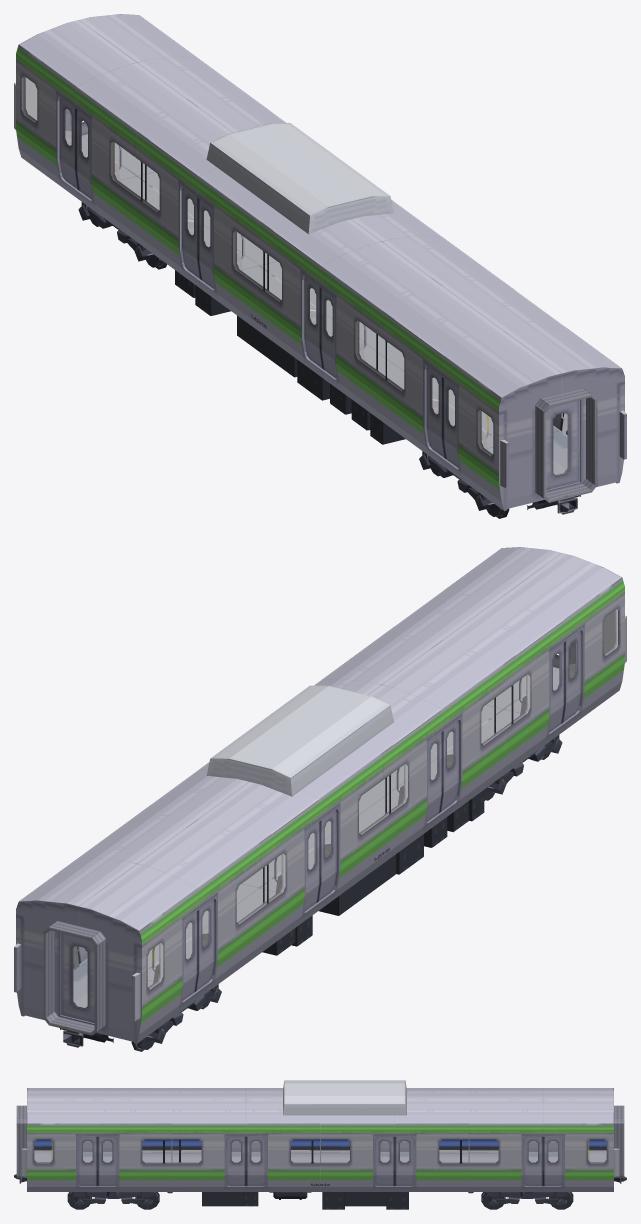
Rendered from jr_east_moha_e230_500.obj.
3 renders of one model, top to bottom at view 1: azimuth 30°, elevation 25°; view 2: azimuth 150°, elevation 25°; view 3: azimuth 270°, elevation 25°, orthographic. The views are drawn at different scales.
Parts seen in each view (by area): view 1: body_ext, tail_ext, body_int, door_right_negative_ext, door_right_positive_ext, front_door, bogie_1, bogie_0; view 2: body_ext, tail_ext, body_int, door_right_positive_ext, door_right_negative_ext, back_door, bogie_0, bogie_1; view 3: body_ext, tail_ext, body_int, door_left_negative_ext, door_left_positive_ext, bogie_0, bogie_1, door_right_positive_int, door_right_negative_int.
Boxes of the visible parts, x1,y1,x2,y2 form: body_ext: (56,56,563,471); tail_ext: (14,14,626,514); body_int: (23,76,567,474); door_right_negative_ext: (59,97,445,458); door_right_positive_ext: (76,109,458,468); front_door: (546,400,579,489); bogie_1: (78,202,153,261); bogie_0: (419,451,493,510); body_ext: (77,589,584,1004); tail_ext: (14,547,626,1047); body_int: (73,609,617,1007); door_right_positive_ext: (195,630,581,991); door_right_negative_ext: (182,642,564,1001); back_door: (61,933,94,1022); bogie_0: (487,735,562,794); bogie_1: (147,984,221,1043); body_ext: (76,1080,564,1209); tail_ext: (14,1088,626,1191); body_int: (34,1134,606,1163); door_left_negative_ext: (97,1136,562,1186); door_left_positive_ext: (78,1136,543,1186); bogie_0: (73,1192,153,1208); bogie_1: (487,1192,567,1208); door_right_positive_int: (83,1141,537,1151); door_right_negative_int: (103,1141,557,1151).
Bounding box in the file's own units: 2.94 × 4.16 × 20.38.
4 materials, 4 textured.
